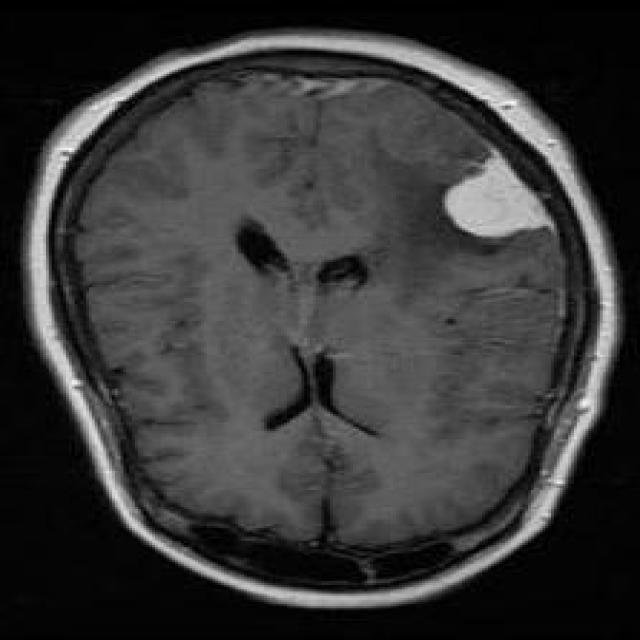Tumor: (436, 134, 568, 266)
